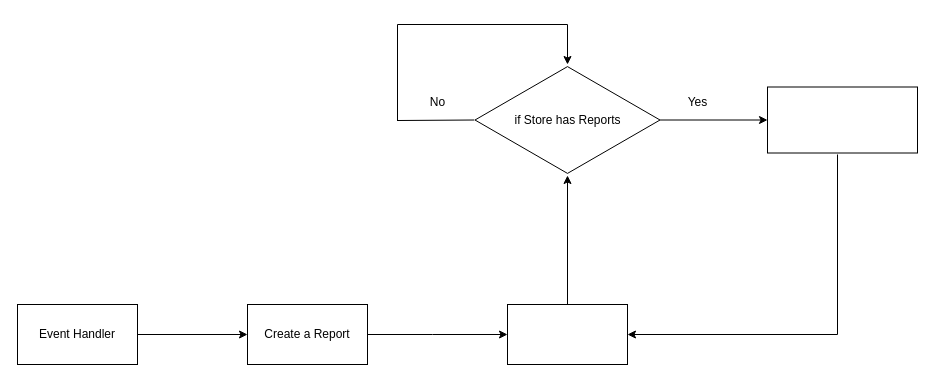
Image size: 935x382. Some labels were removed from this diagram. Each missing label, with the centre of its shape:
Save Report To SavedObject: [842,119]
Save Report to Store: [567,334]
